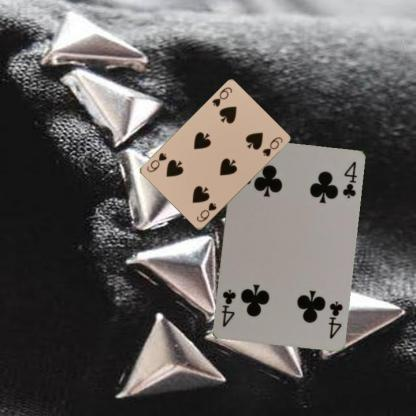4c: (326, 298, 344, 340)
6s: (193, 200, 218, 224), (209, 85, 234, 109)
